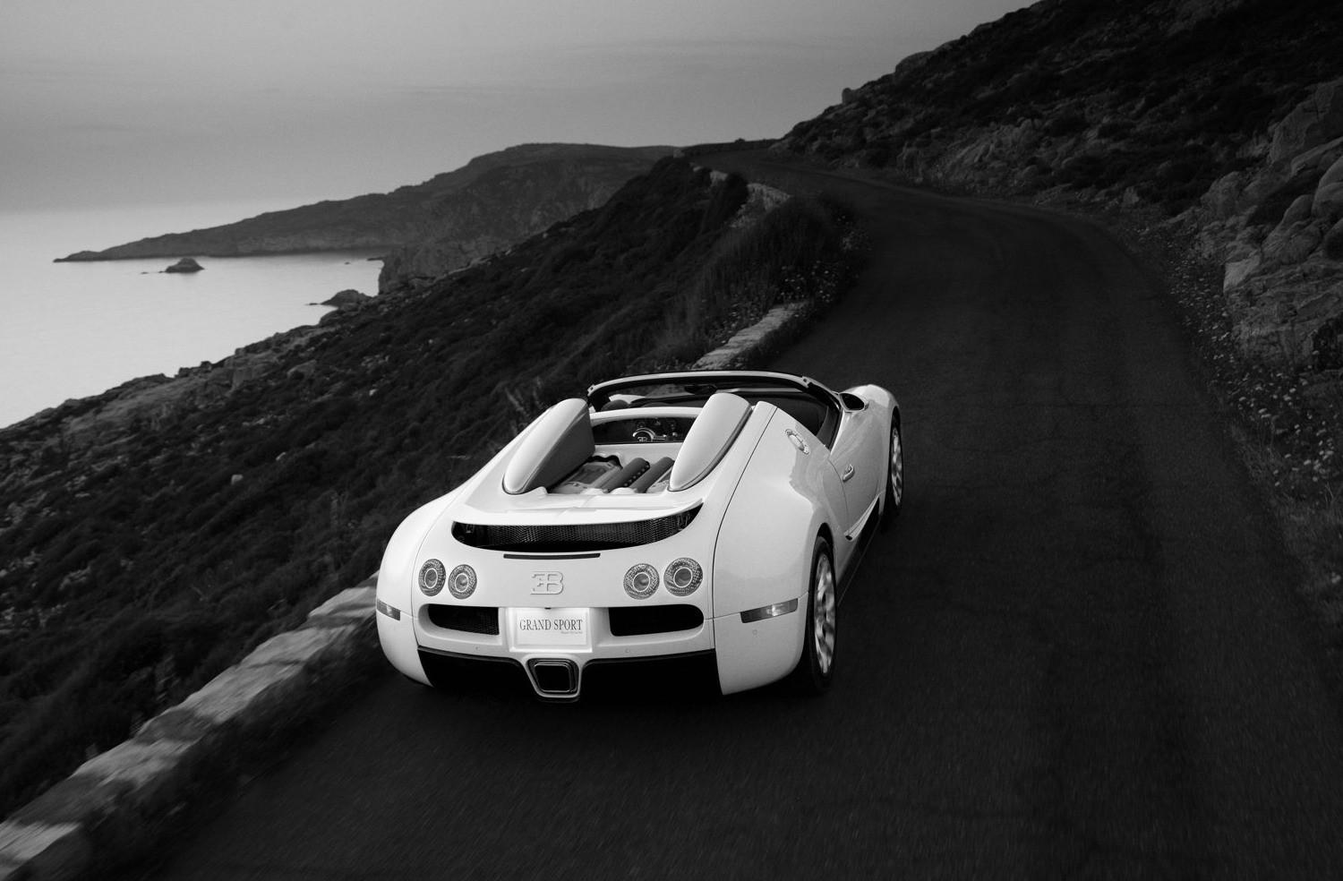car: (373, 371, 906, 708)
